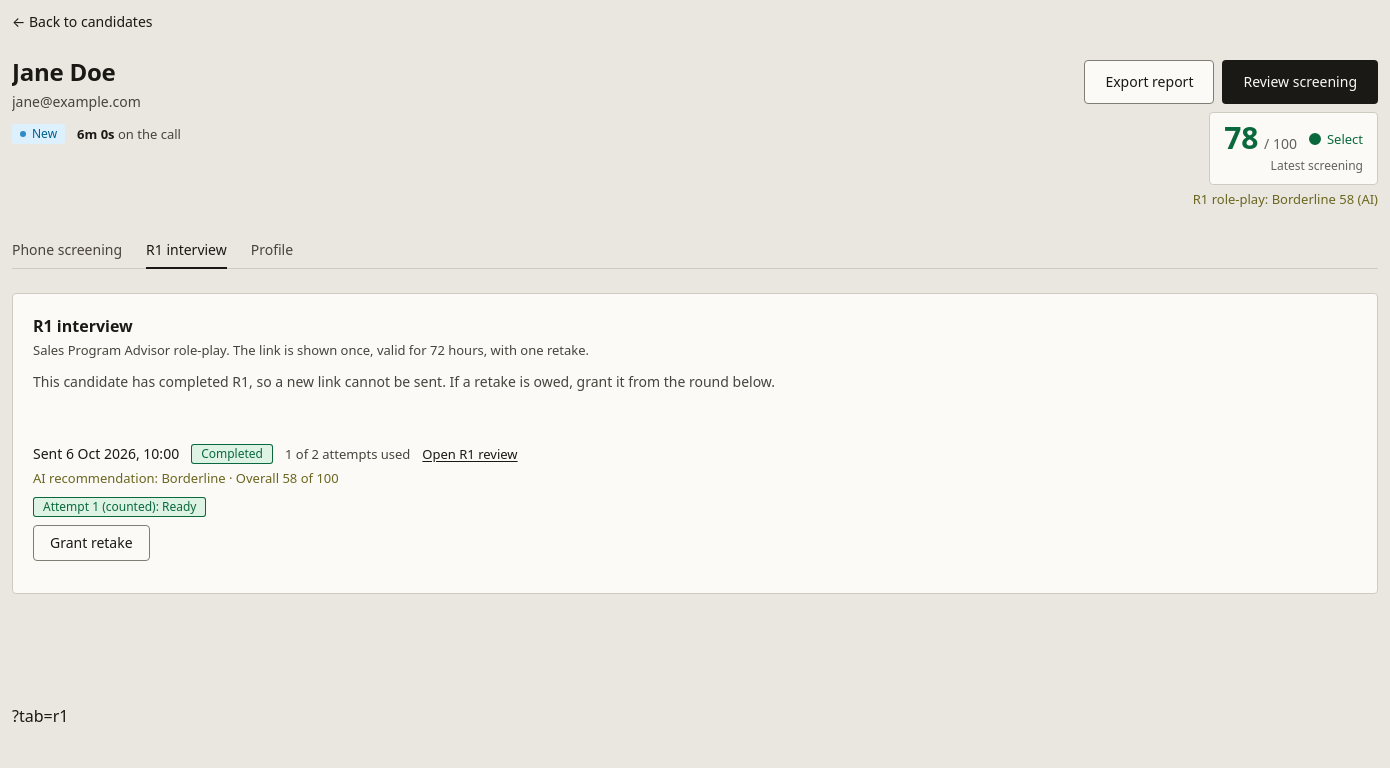
Test: the R1 interview tab › keeps the retake and its confirmation, which moved here from the Overview card
Click the button "Grant retake": click(91, 543) [33,525,150,561]
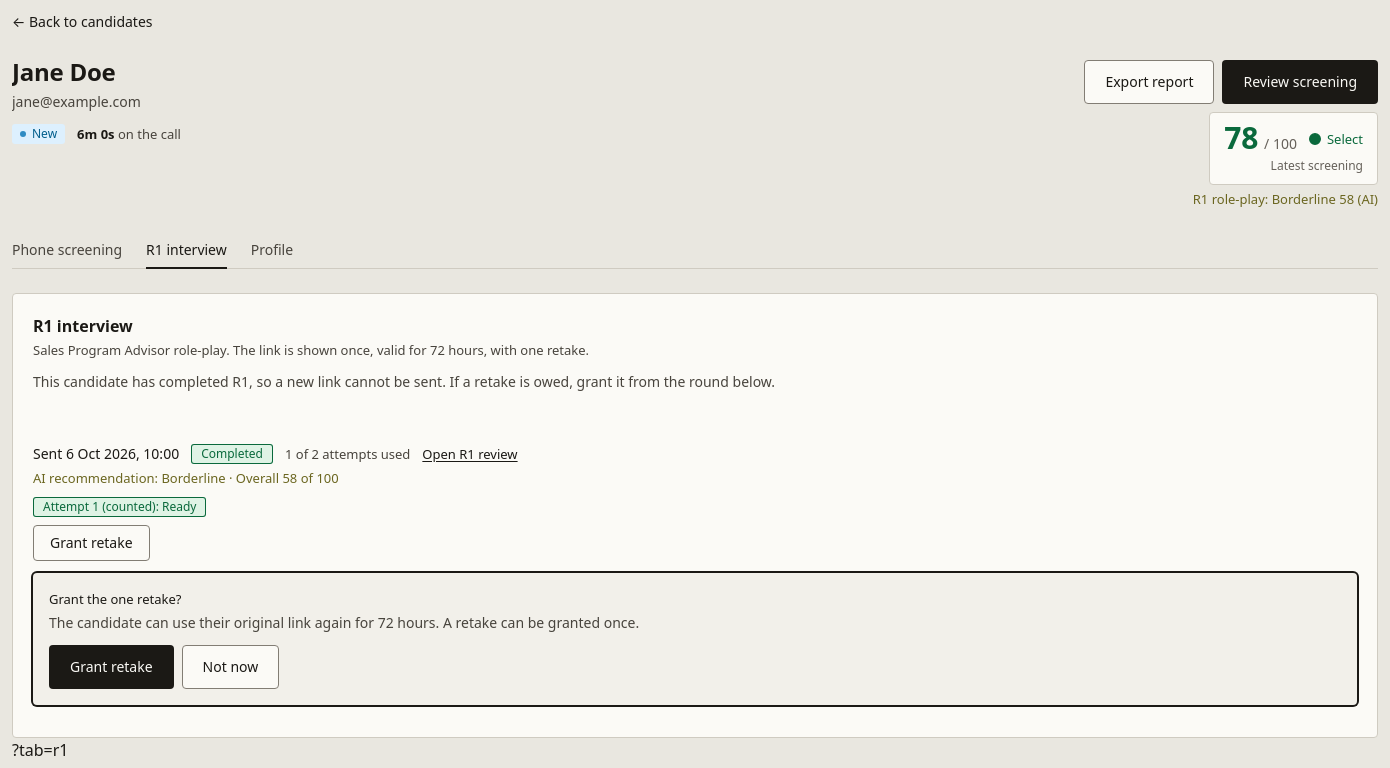
expect the element "Grant the one retake?" is shown: met, box [33,573,1357,705]
